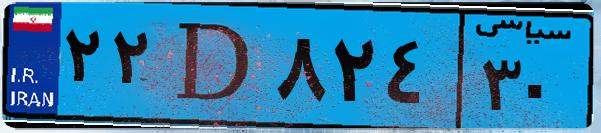0: (525, 38, 570, 115)
2: (330, 28, 385, 110), (57, 26, 110, 100), (110, 28, 158, 98)
3: (475, 38, 525, 113)
4: (385, 28, 445, 110)
8: (270, 28, 330, 110)
D: (158, 12, 270, 120)
